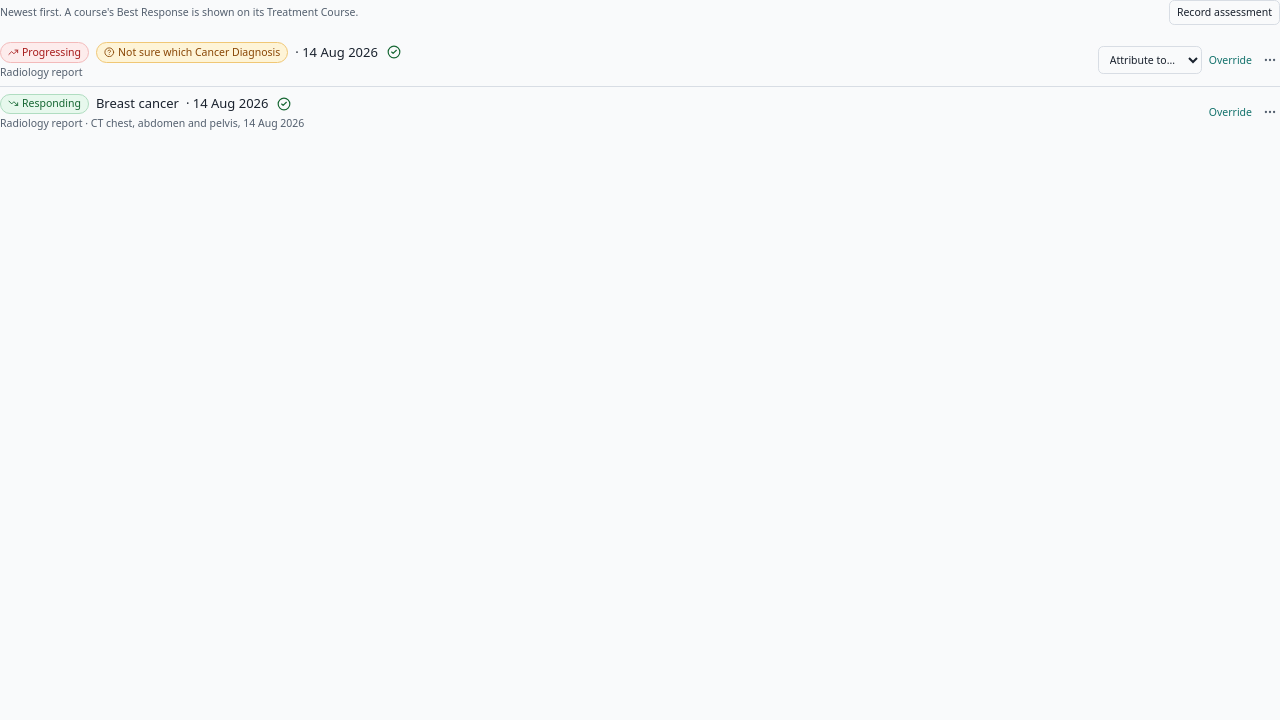
it: Response Assessments › lets a clinician attribute one recorded as 'not sure which Cancer Diagnosis', or override one
Select "Breast cancer" in the dropdown named "Attribute to". click: (1150, 60)
box: [1098,46,1202,74]
Expected: the list item that starts with "Responding" shows "Radiology report · CT chest, abdomen and pelvis, 14 Aug 2026", [0,86,1279,137]
Click the button "Override" in the row of "Responding". click: (1230, 112)
box: [1209,105,1252,119]
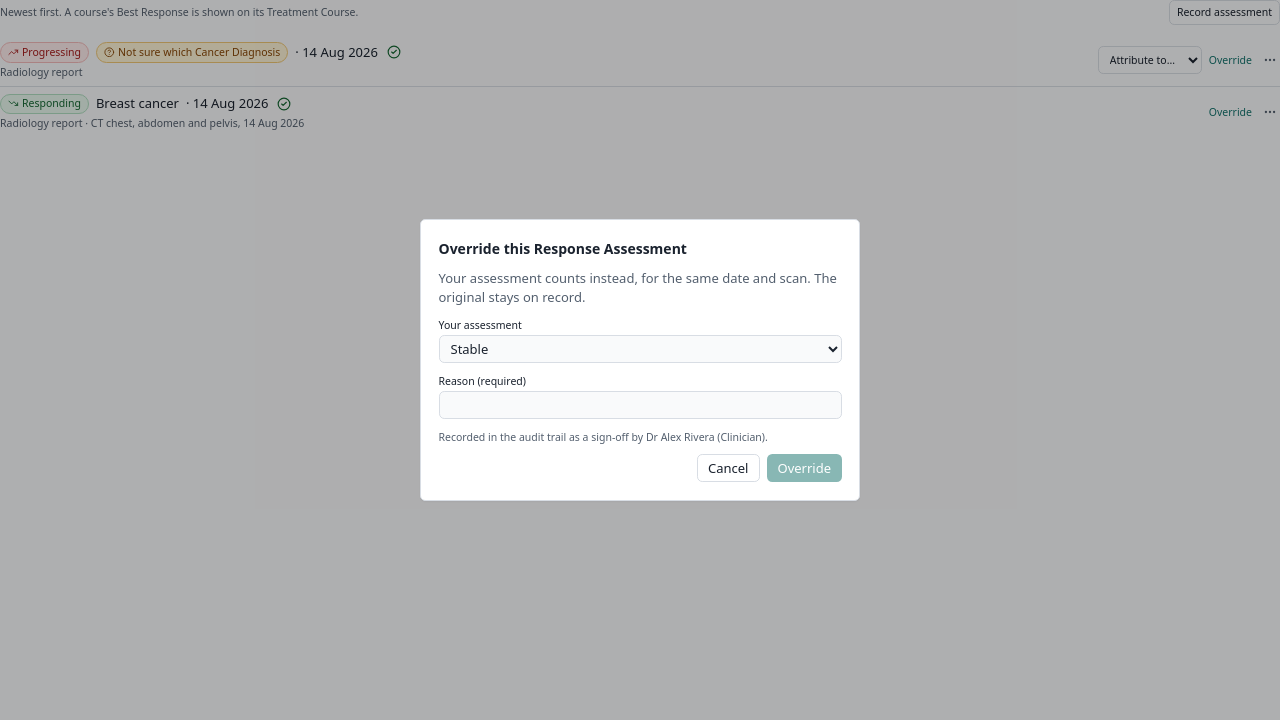
Expected: the dialog "Override this Response Assessment" is shown, [420,219,860,501]
